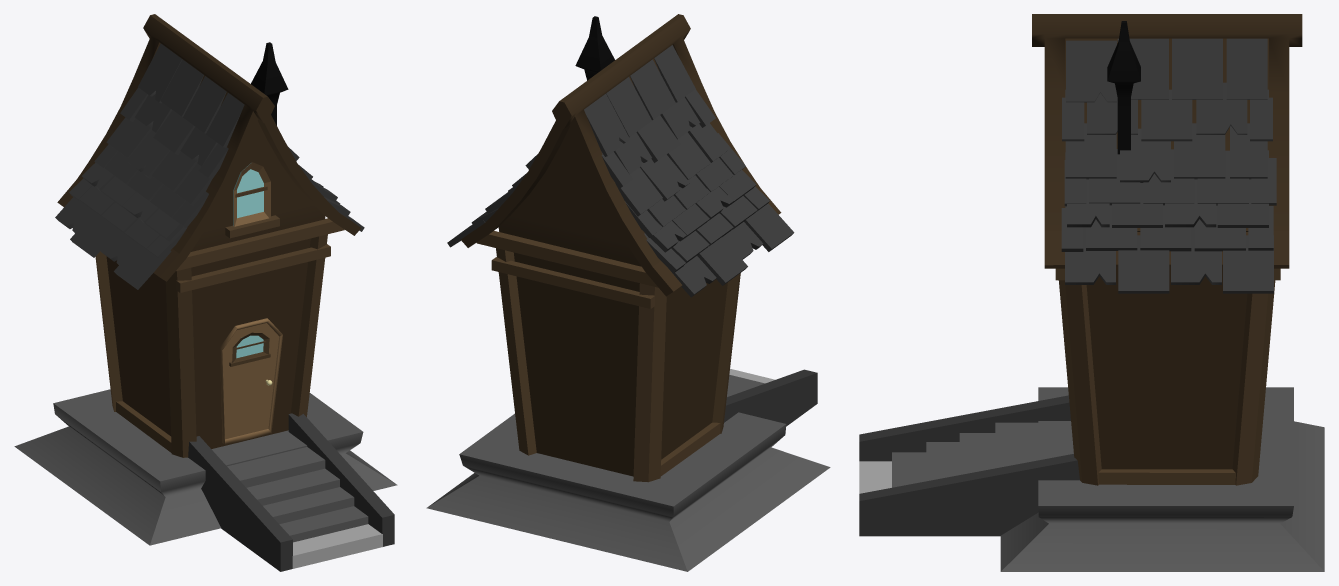
Rendered from UnityModel_House2.fbx.
3 renders of one model, left to right at view 1: azimuth 30°, elevation 25°; view 2: azimuth 150°, elevation 25°; view 3: azimuth 270°, elevation 25°, orthographic. The views are drawn at different scales.
Parts seen in each view (by area): view 1: pCube8, pasted__group26_pasted__group18_pasted__pasted__group15_past, pCube11, pasted__pCube3, pasted__pasted__pasted__pCube12 (×2), pasted__pasted__pasted__pasted__pCube12 (×2), polySurface1, pasted__pCube9 (×2), pCube9, pCube12, polySurface15, pasted__pasted__pCube12 (+5 smaller); view 2: pCube8, pCube11, pasted__group26_pasted__group18_pasted__pasted__group15_past, pasted__pCube3, pasted__pCube9 (×2), pasted__pasted__pasted__pCube12, pasted__pasted__pCube9, pCube13, group26_pasted__group18_pasted__pasted__group15_pasted__past; view 3: group26_pasted__group18_pasted__pasted__group15_pasted__past, pCube8, pCube11, pasted__pCube3, pasted__pasted__pasted__pasted__pCube12 (×2), pasted__pasted__pasted__pCube12 (×2), pCube13, pasted__pasted__pCube9, pCube12, pasted__pCube12, pasted__pasted__pCube12.
Part boxes in pixels (x1,y1,x2,y2): pCube8: (95,234,327,457); pasted__group26_pasted__group18_pasted__pasted__group15_past: (55,43,244,289); pCube11: (14,389,397,545); pasted__pCube3: (57,14,360,281); pasted__pasted__pasted__pCube12 (×2): (188,436,368,571); pasted__pasted__pasted__pasted__pCube12 (×2): (288,413,394,568); polySurface1: (220,318,282,444); pasted__pCube9 (×2): (116,244,330,452); pCube9: (176,218,344,271); pCube12: (227,447,325,487); polySurface15: (233,162,270,226); pasted__pasted__pCube12: (263,487,354,524); pCube8: (496,248,740,482); pCube11: (426,412,830,571); pasted__group26_pasted__group18_pasted__pasted__group15_past: (584,45,794,297); pasted__pCube3: (461,14,781,296); pasted__pCube9 (×2): (476,231,720,476); pasted__pasted__pasted__pCube12: (724,369,817,426); pasted__pasted__pCube9: (491,257,654,308); pCube13: (575,16,614,80); group26_pasted__group18_pasted__pasted__group15_pasted__past: (447,154,537,247); group26_pasted__group18_pasted__pasted__group15_pasted__past: (1061,38,1276,293); pCube8: (1058,267,1275,485); pCube11: (1000,387,1324,571); pasted__pCube3: (1032,14,1302,268); pasted__pasted__pasted__pasted__pCube12 (×2): (859,453,1079,536); pasted__pasted__pasted__pCube12 (×2): (859,395,1070,487); pCube13: (1107,21,1140,154); pasted__pasted__pCube9: (1098,469,1235,484); pCube12: (995,422,1038,468); pasted__pCube12: (959,433,995,474); pasted__pasted__pCube12: (926,442,959,481).
Bounding box in the file's own units: 6.74 × 10.93 × 9.12.
